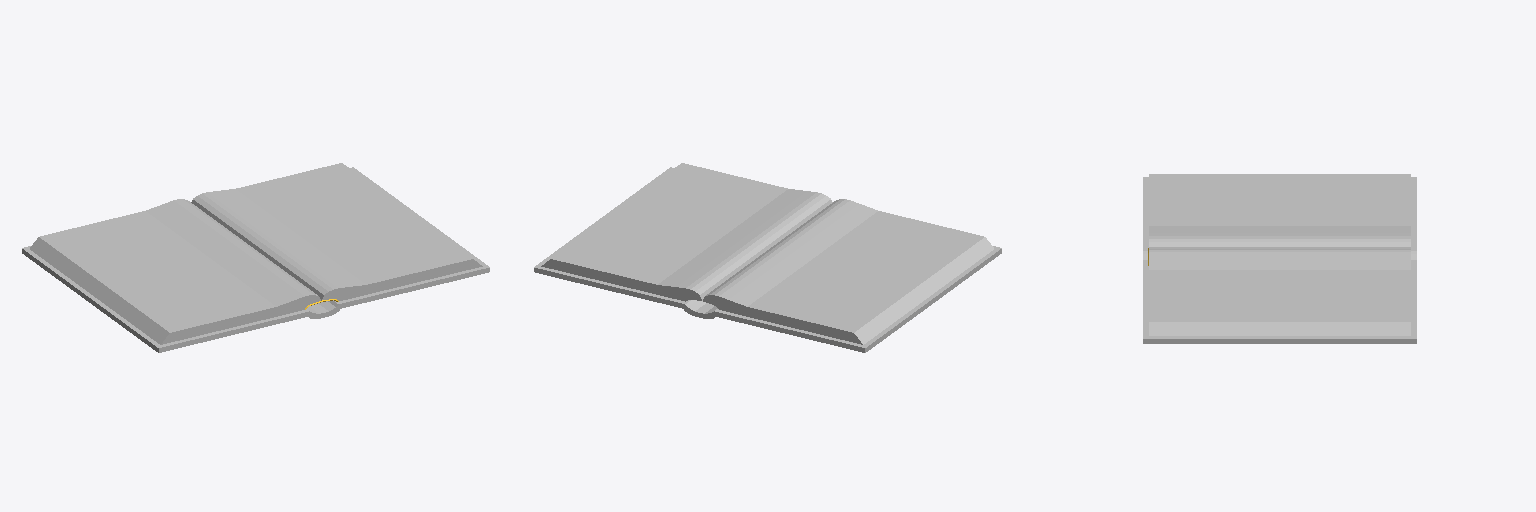
Rendered from book.obj.
3 renders of one model, left to right at view 1: azimuth 30°, elevation 25°; view 2: azimuth 150°, elevation 25°; view 3: azimuth 270°, elevation 25°, orthographic.
Visible parts, largest first — view 1: 1_Paper, 00_Cover; view 2: 1_Paper, 00_Cover; view 3: 1_Paper, 00_Cover.
Boxes of the visible parts, x1,y1,x2,y2 form: 1_Paper: [30, 163, 482, 344]; 00_Cover: [22, 167, 489, 352]; 1_Paper: [541, 163, 993, 344]; 00_Cover: [534, 167, 1001, 352]; 1_Paper: [1149, 174, 1410, 335]; 00_Cover: [1143, 177, 1416, 343].
Bounding box in the file's own units: 140 × 9.4 × 100.